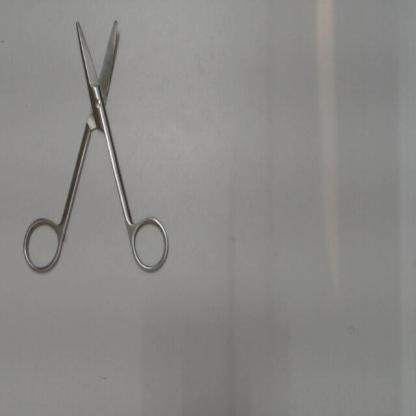Curved Mayo Scissors: (17, 14, 174, 283)
